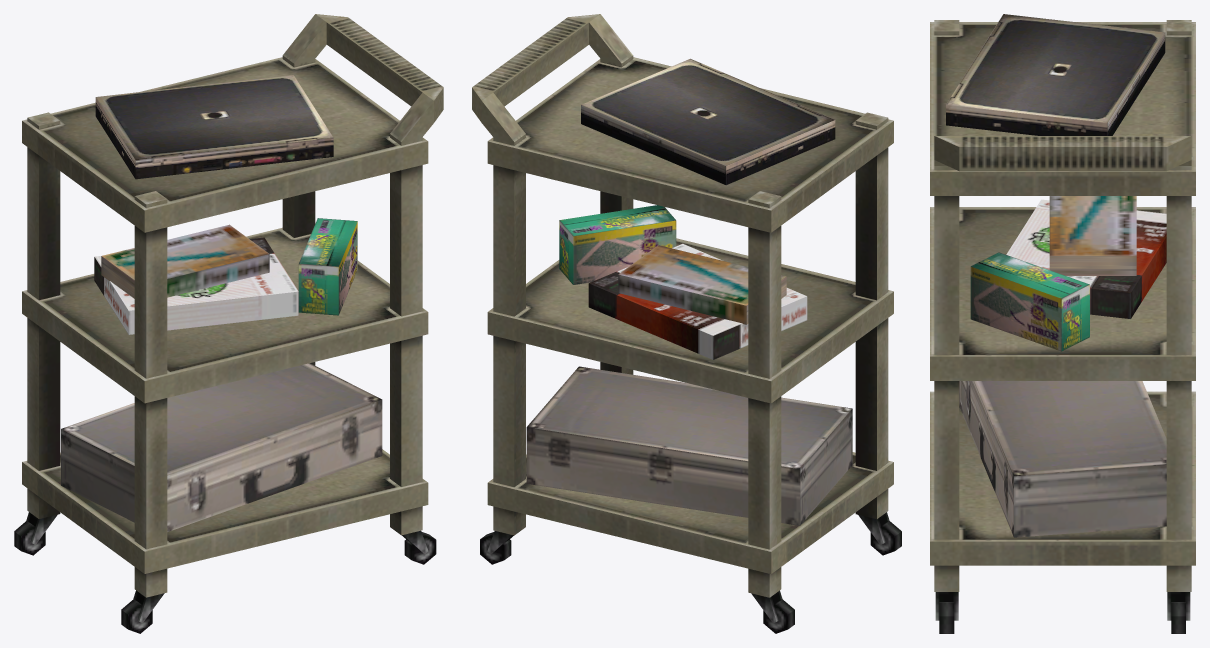
Rendered from officecart_full.fbx.
The picture shows the model from 3 angles, left to right: view 1: azimuth 30°, elevation 25°; view 2: azimuth 150°, elevation 25°; view 3: azimuth 270°, elevation 25°; orthographic projection. The views are drawn at different scales.
Parts seen in each view (by area): view 1: mesh_0, mesh_1; view 2: mesh_0, mesh_1; view 3: mesh_0, mesh_1.
Part boxes in pixels (bbox=[...]): mesh_0: bbox=[14, 14, 443, 633]; mesh_1: bbox=[61, 74, 382, 531]; mesh_0: bbox=[472, 14, 901, 633]; mesh_1: bbox=[526, 58, 852, 525]; mesh_0: bbox=[930, 20, 1195, 633]; mesh_1: bbox=[946, 14, 1166, 537].
Size of the model in its own units: 76.78 by 105 by 50.26.
2 materials, 2 textured.
